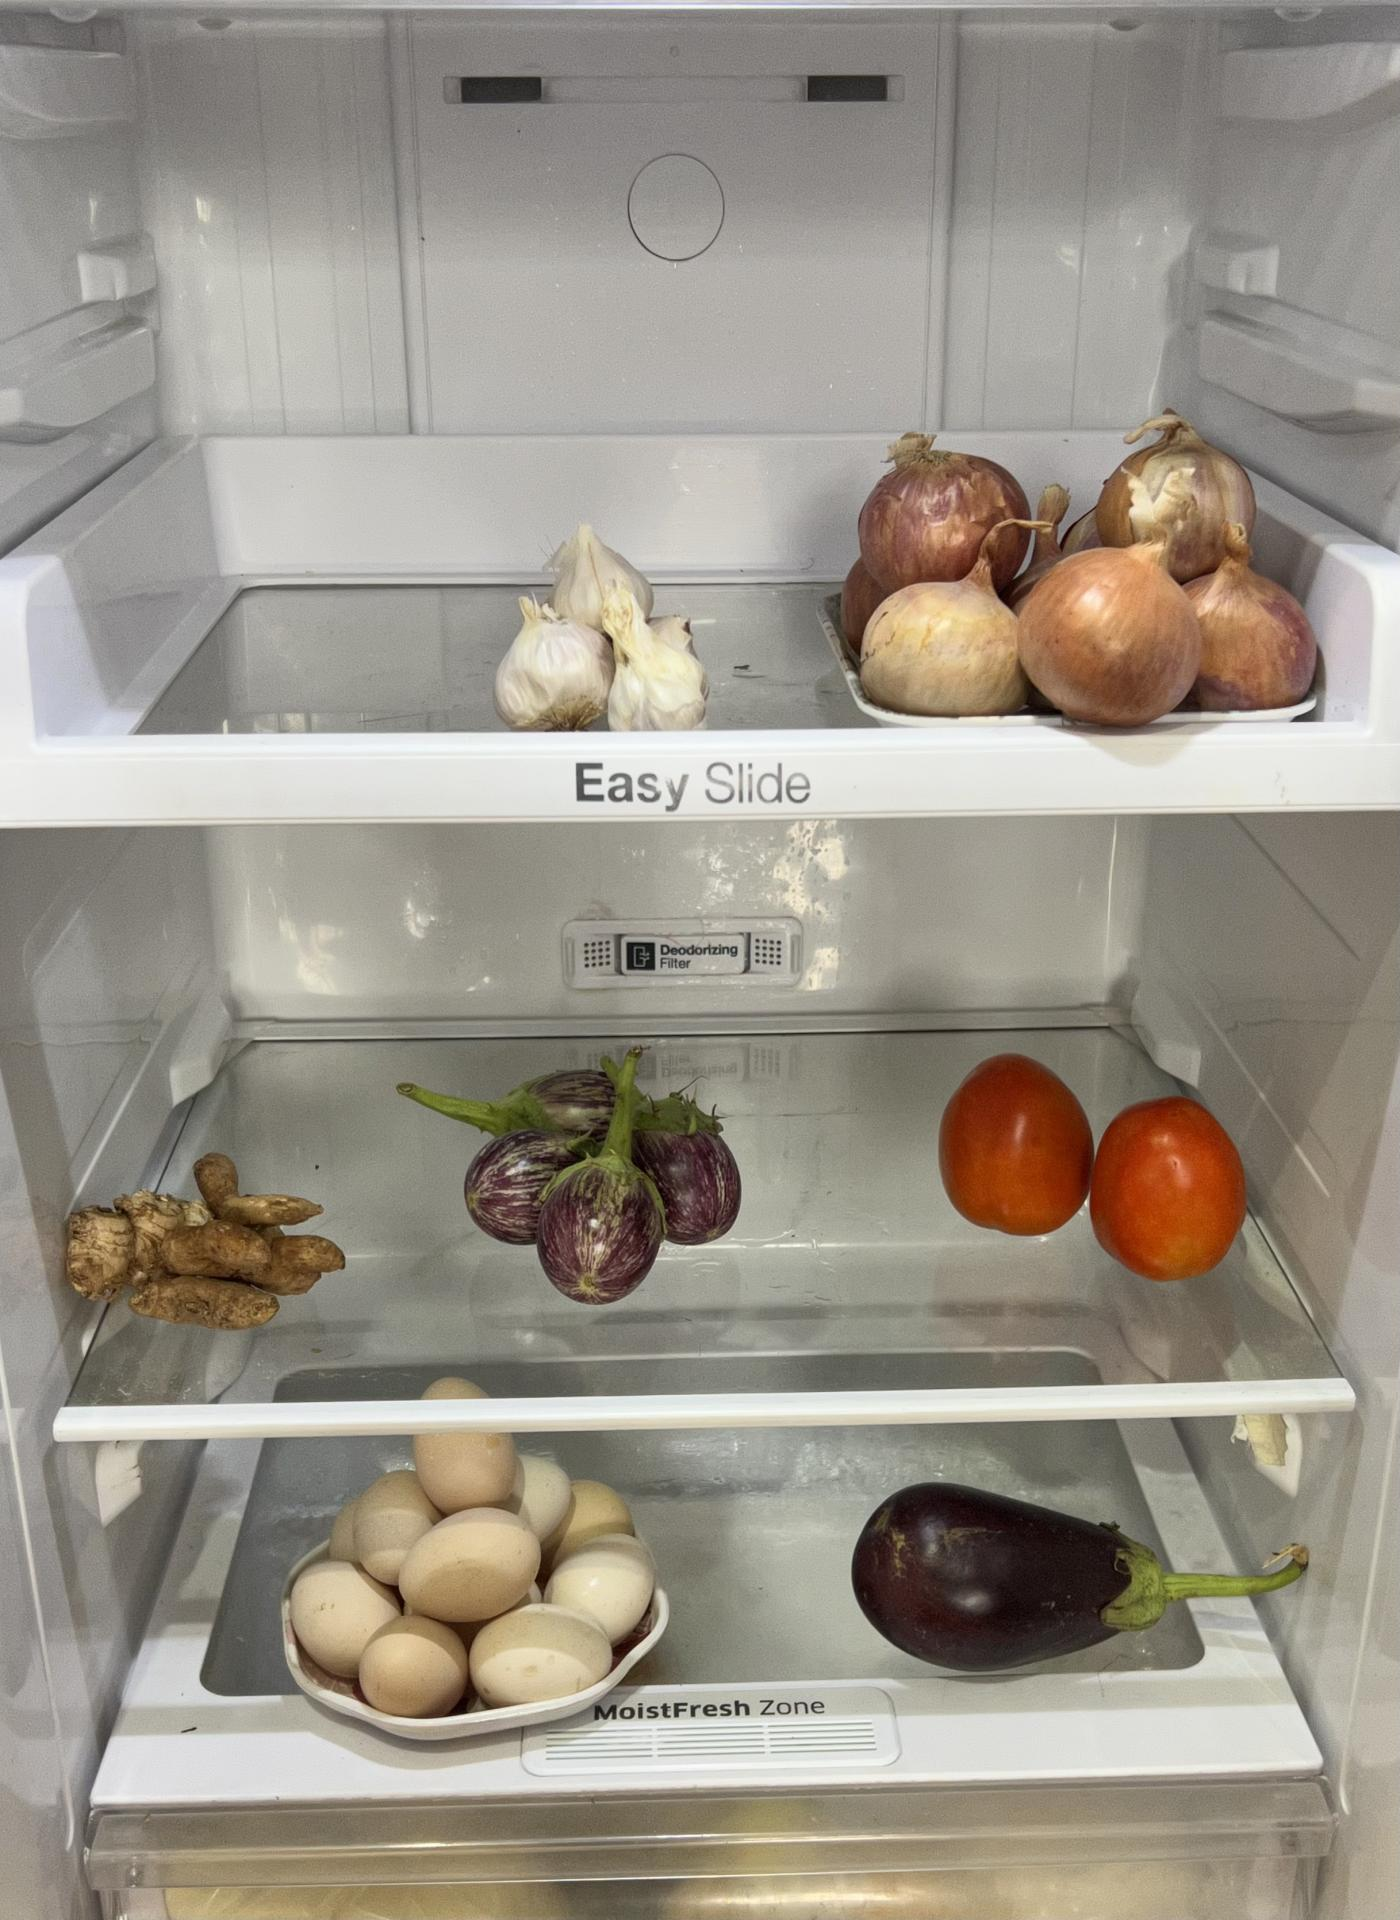egg: (276, 1436, 656, 1711)
garlic: (486, 510, 710, 733)
ginger: (63, 1155, 347, 1330)
onion: (839, 417, 1324, 726)
tomato: (936, 1046, 1243, 1278)
